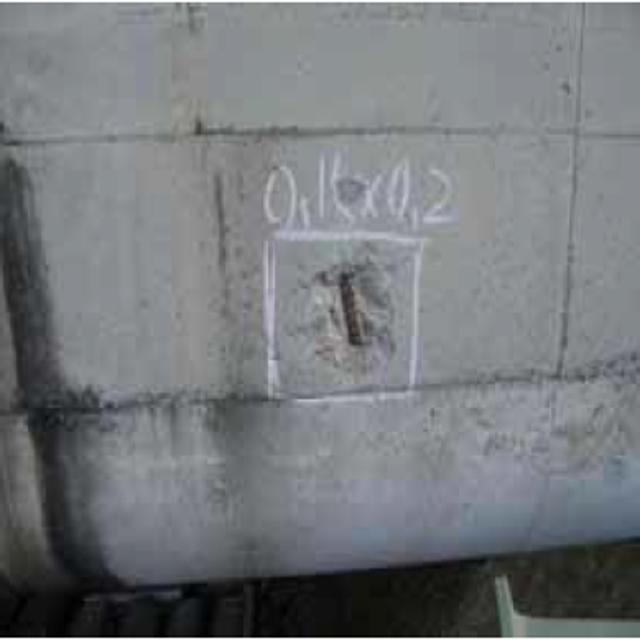spalling: (293, 266, 408, 376)
